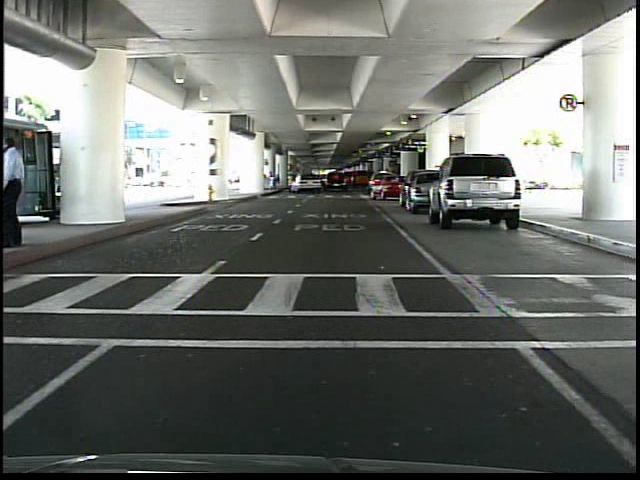person: (6, 140, 38, 252)
